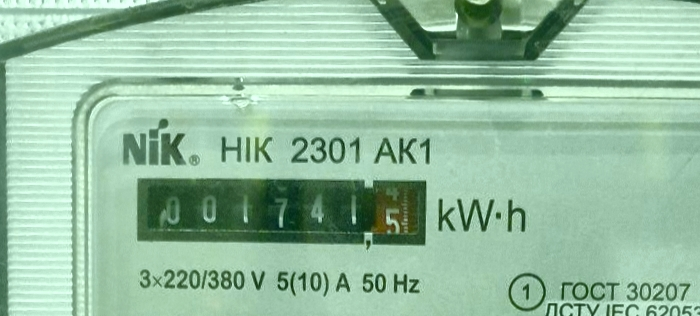0: (198, 190, 218, 225), (162, 192, 182, 226)
1: (234, 189, 252, 226), (344, 192, 360, 227)
4: (306, 190, 327, 225), (383, 184, 399, 202)
5: (381, 204, 401, 235)
7: (270, 193, 288, 229)
screen: (128, 165, 434, 255)
